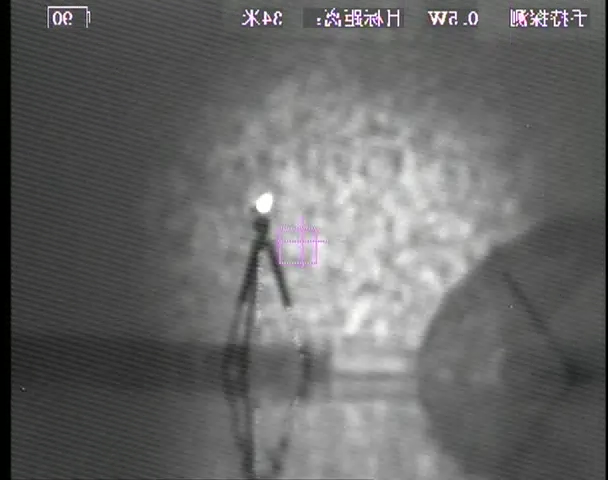my: (253, 189, 276, 214)
